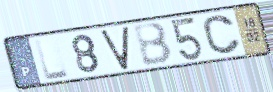5: (167, 16, 204, 62)
8: (71, 32, 102, 75)
B: (131, 21, 175, 68)
C: (201, 14, 243, 57)
L: (33, 36, 72, 82)
V: (99, 24, 130, 72)
